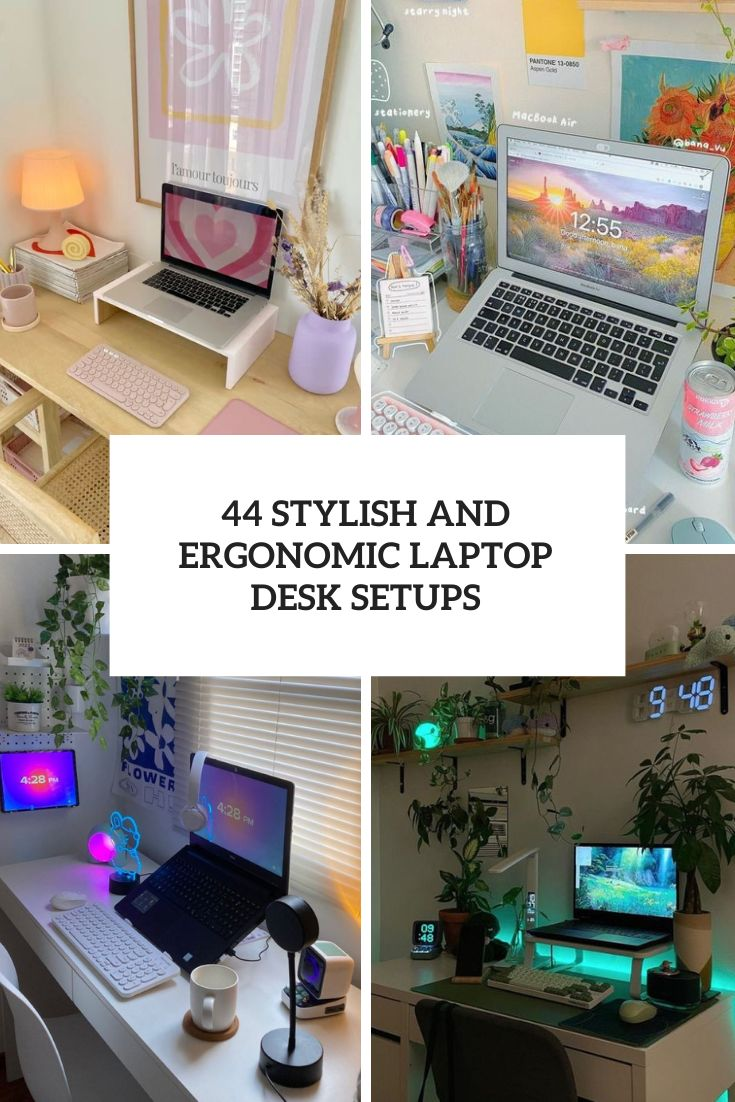not a gesture sign: (334, 543, 399, 569)
